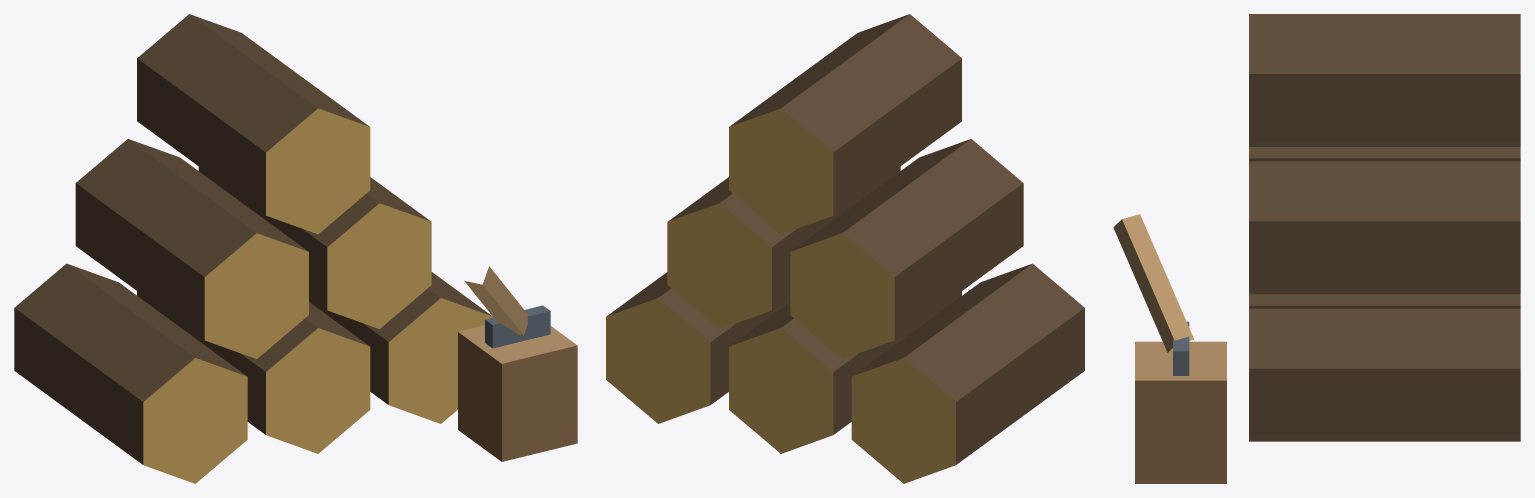
The model's file is prop-woodpile.glb.
3 views of the same model, side by side, from view 1: azimuth 30°, elevation 25°; view 2: azimuth 150°, elevation 25°; view 3: azimuth 270°, elevation 25° (orthographic). The views are drawn at different scales.
Visible parts, largest first — view 1: prop-woodpile; view 2: prop-woodpile; view 3: prop-woodpile.
Boxes of the visible parts, x1,y1,x2,y2 form: prop-woodpile: (14,14,577,483); prop-woodpile: (606,14,1084,483); prop-woodpile: (1113,14,1520,483).
Size of the model in its own units: 1.7 by 1.48 by 1.5.
1 material, 1 textured.
